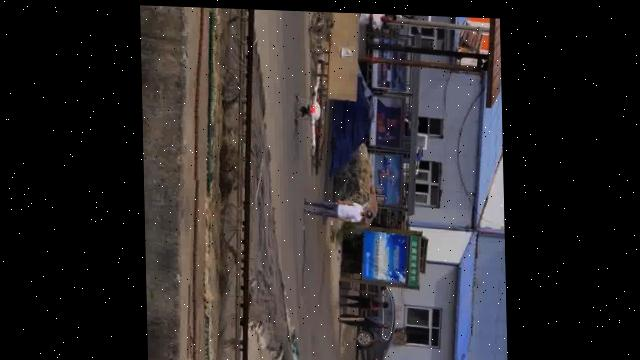drone: (293, 64, 328, 152)
